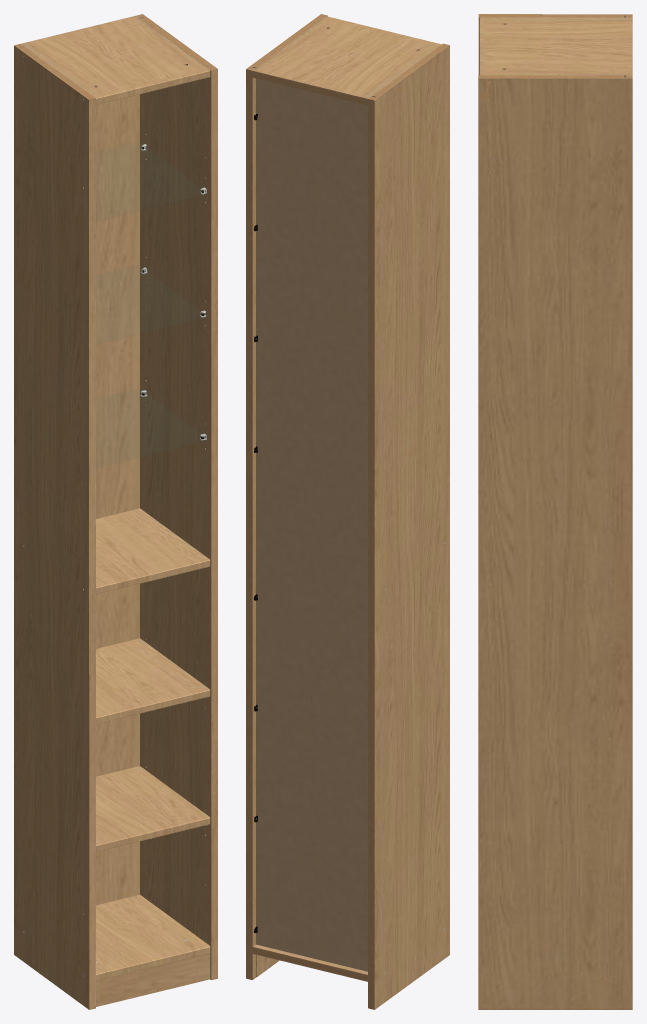
The model's file is 23 - PAX Add-on mid-unit - oak effect 35x35x236 cm.glb.
3 renders of one model, left to right at view 1: azimuth 30°, elevation 25°; view 2: azimuth 150°, elevation 25°; view 3: azimuth 270°, elevation 25°, orthographic. The views are drawn at different scales.
Visible parts, largest first — view 1: ASY_ART_30603829_S01_NV01; view 2: ASY_ART_30603829_S01_NV01; view 3: ASY_ART_30603829_S01_NV01.
Boxes of the visible parts, <box> form: ASY_ART_30603829_S01_NV01: <box>14,14,217,1009</box>; ASY_ART_30603829_S01_NV01: <box>246,14,449,1009</box>; ASY_ART_30603829_S01_NV01: <box>478,14,632,1009</box>.
Bounding box in the file's own units: 0.3505 × 2.37 × 0.3547.
Materials: 2 (2 with a texture image).
